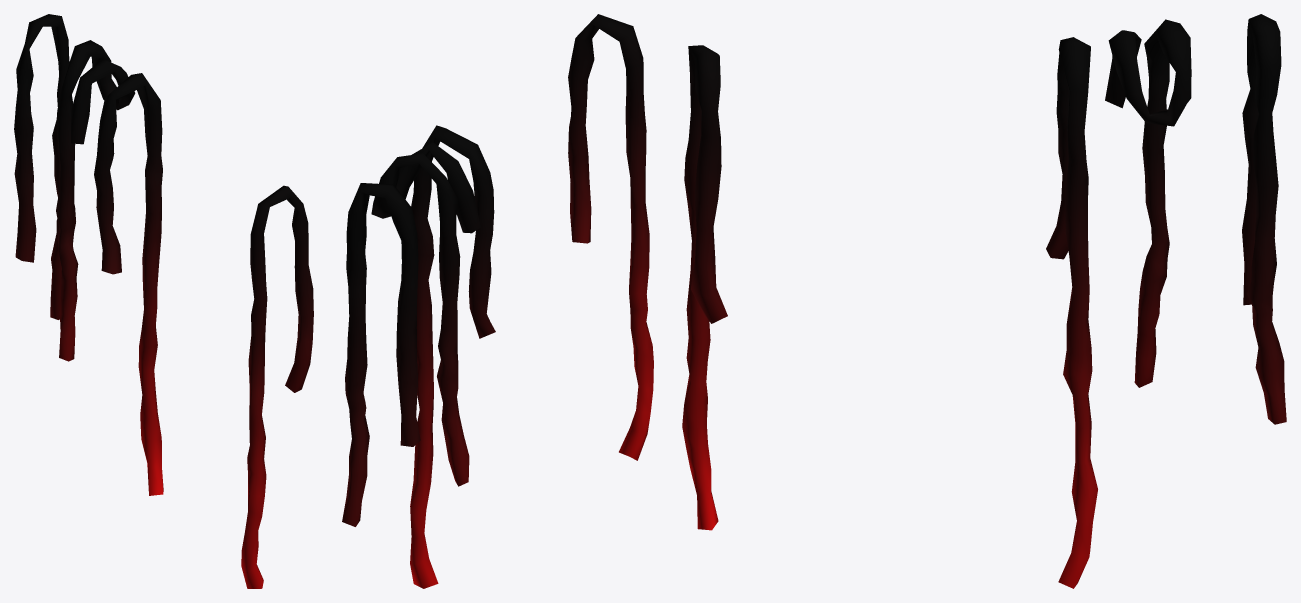
File: SM_Guts_B_Fence_C_03.fbx
3 renders of one model, left to right at view 1: azimuth 30°, elevation 25°; view 2: azimuth 150°, elevation 25°; view 3: azimuth 270°, elevation 25°, orthographic. The views are drawn at different scales.
Parts seen in each view (by area): view 1: SM_Guts_B_Fence_C_03_LOD0; view 2: SM_Guts_B_Fence_C_03_LOD0; view 3: SM_Guts_B_Fence_C_03_LOD0.
Part boxes in pixels (x1,y1,x2,y2): SM_Guts_B_Fence_C_03_LOD0: (14, 14, 313, 588); SM_Guts_B_Fence_C_03_LOD0: (342, 14, 653, 588); SM_Guts_B_Fence_C_03_LOD0: (682, 14, 1286, 588).
Size of the model in its own units: 17.5 by 88.96 by 88.11.
